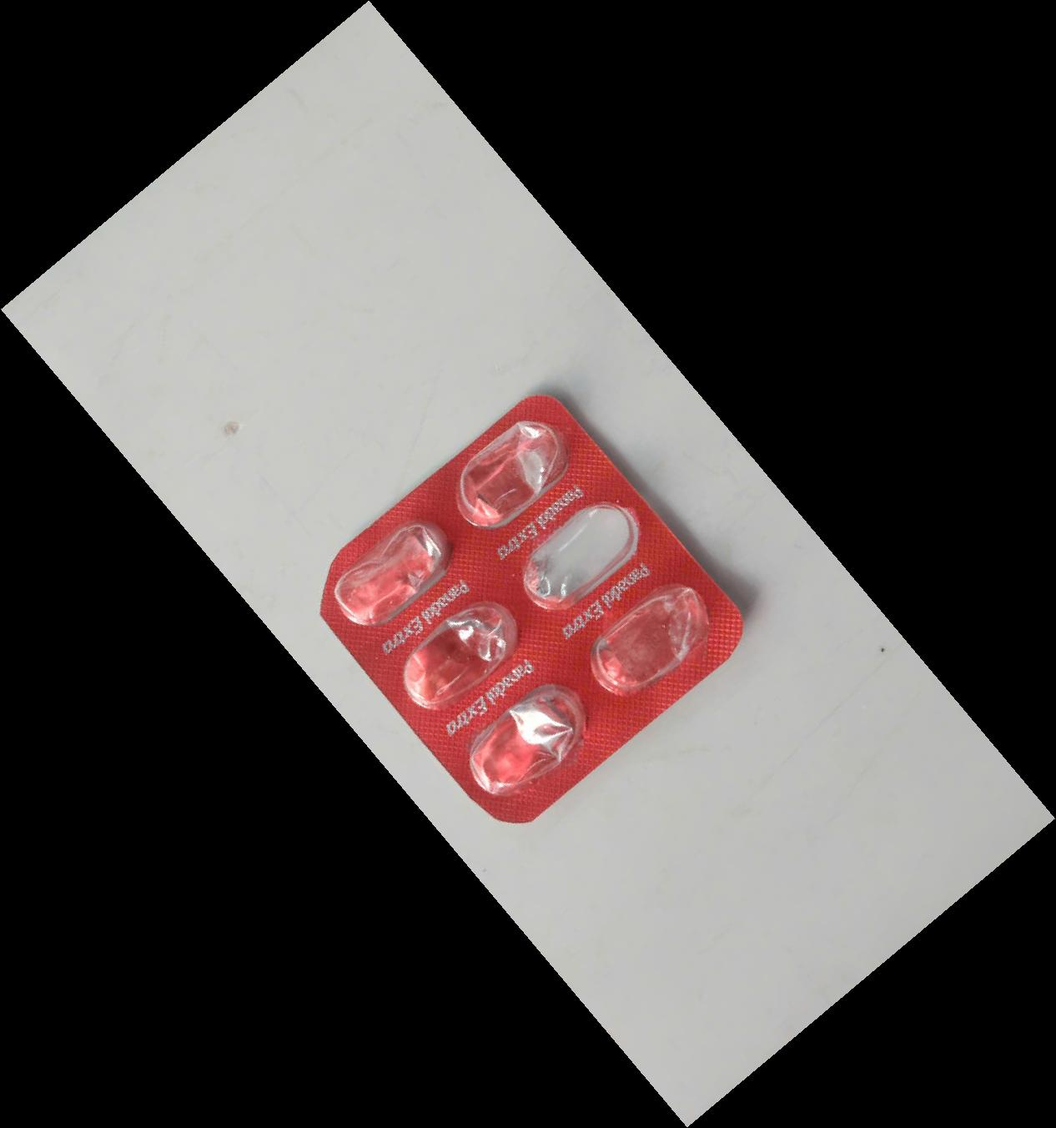Empty: (433, 399, 586, 547), (502, 476, 655, 624), (573, 562, 726, 710), (321, 500, 474, 648), (386, 579, 539, 727), (451, 665, 604, 813)
